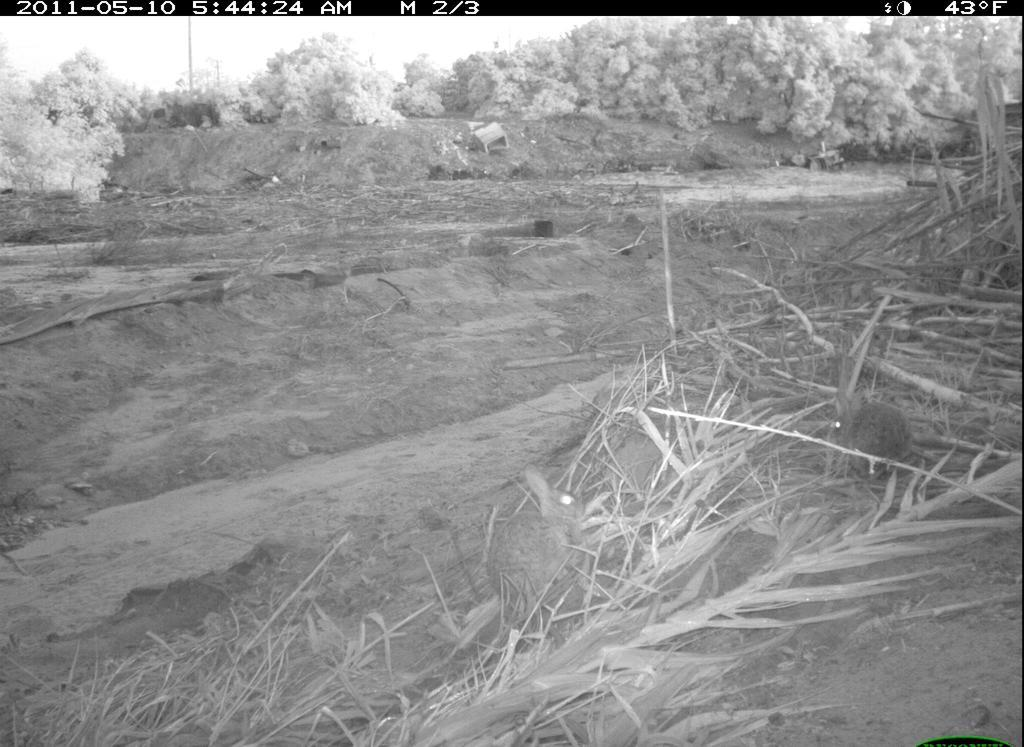rabbit: (486, 464, 605, 619), (825, 364, 943, 489)
